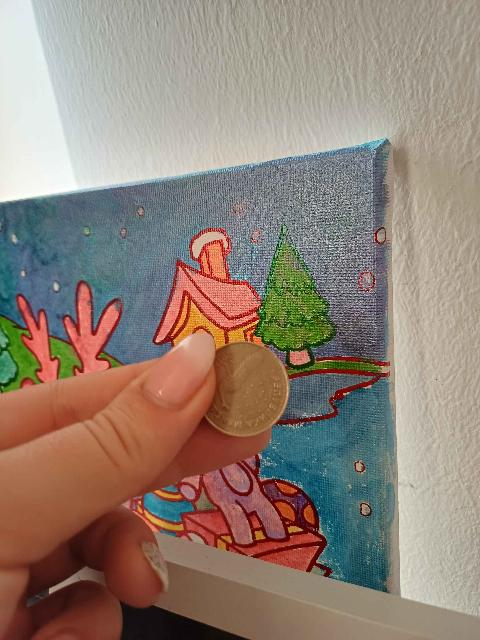10_coin: (206, 342, 289, 436)
